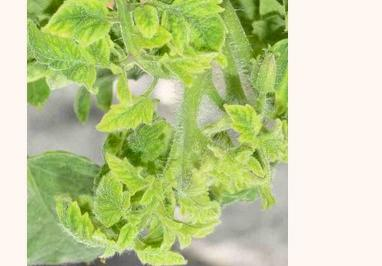Tomato leaf yellow virus: (167, 0, 226, 66), (43, 0, 119, 48), (55, 195, 119, 247), (92, 93, 169, 135), (107, 149, 148, 194), (225, 95, 258, 145)
